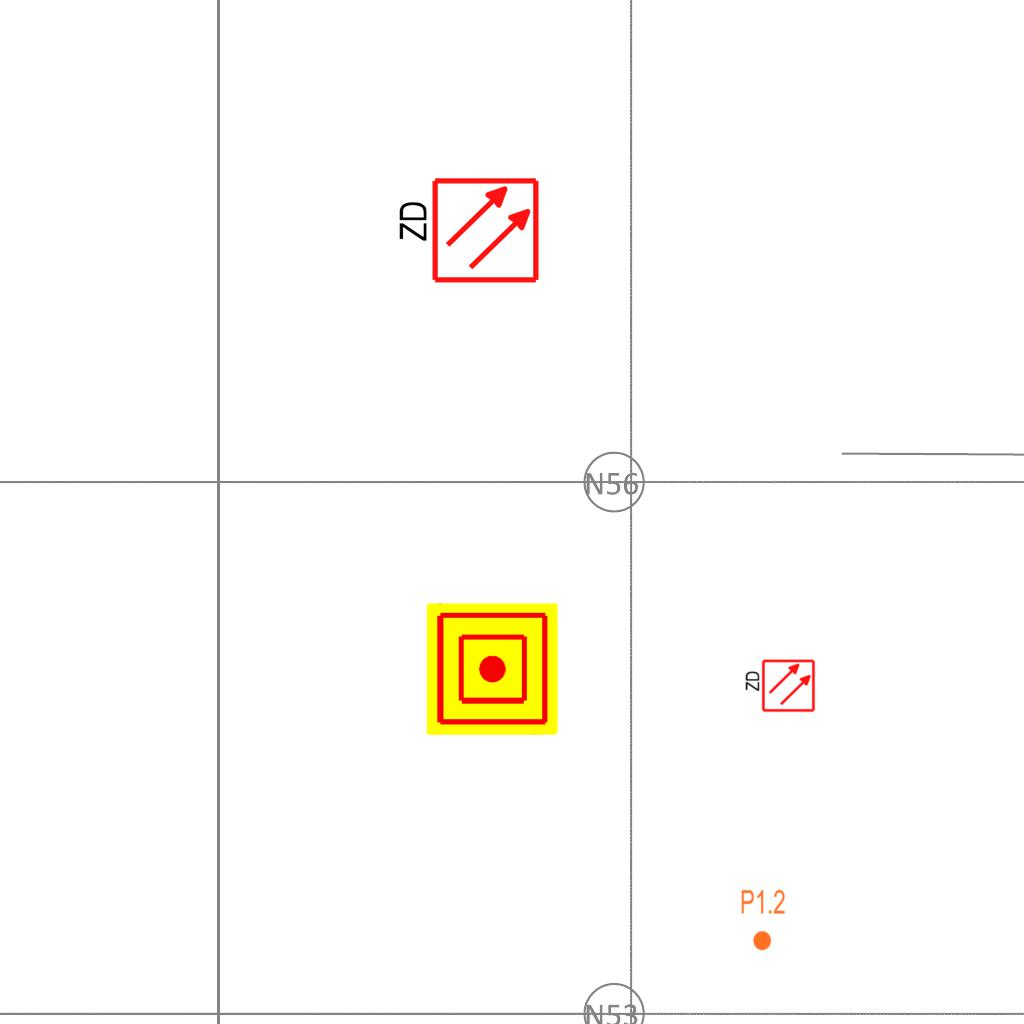Downlight_LED_Einbauleuchten_Flur: (740, 888, 786, 952)
NAM-Nichtautomatischer_Melder: (426, 603, 558, 735)
ZD_Melder_in_Zwischendecke_mit_Revisionsoeffnung_mind_40_x_40_cm: (392, 175, 541, 289), (742, 658, 816, 715)
